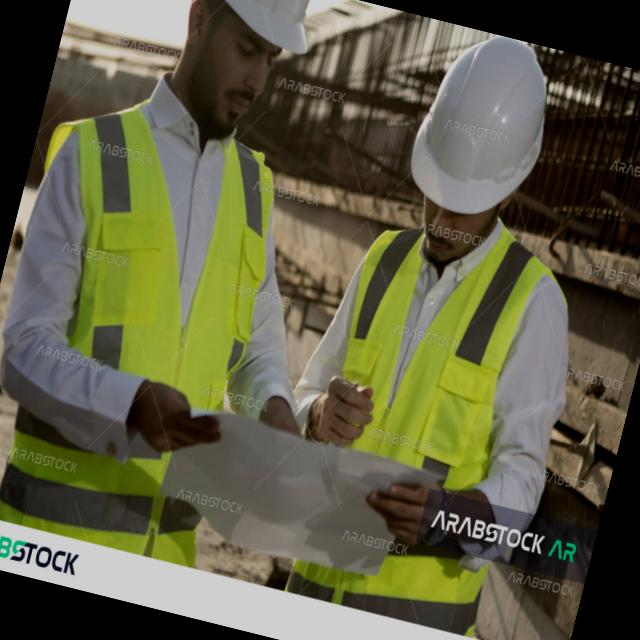helmet: (392, 20, 570, 232), (172, 0, 325, 67)
no-goggles: (216, 17, 294, 90)
vest: (0, 75, 306, 566), (277, 185, 579, 640)
